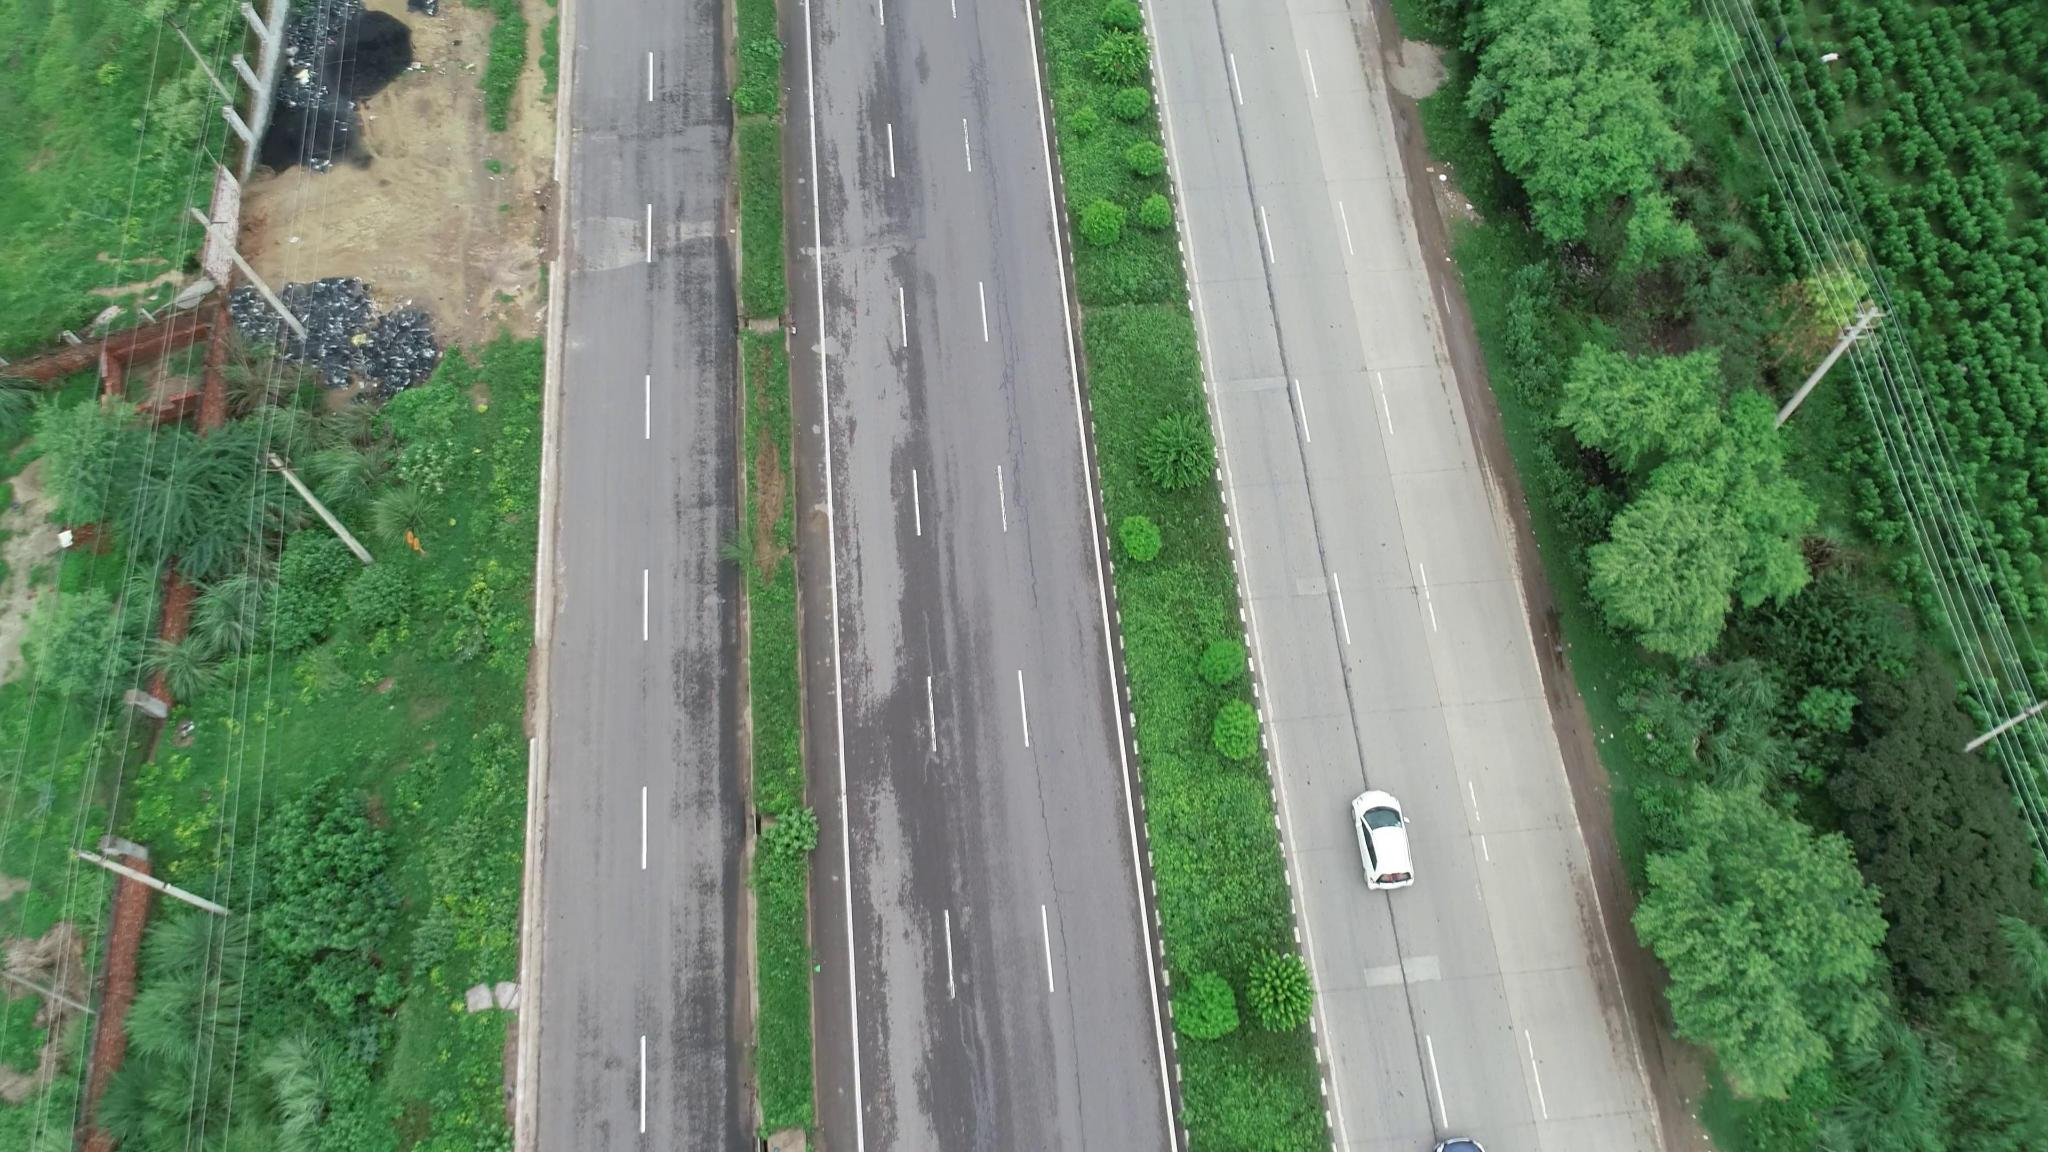Cracks: (1030, 737, 1100, 1137), (993, 293, 1054, 570), (966, 56, 1009, 276)
